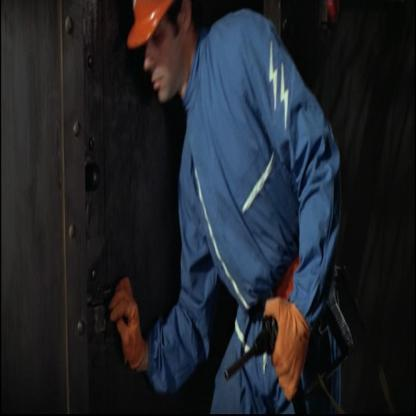gun: (227, 311, 279, 407)
